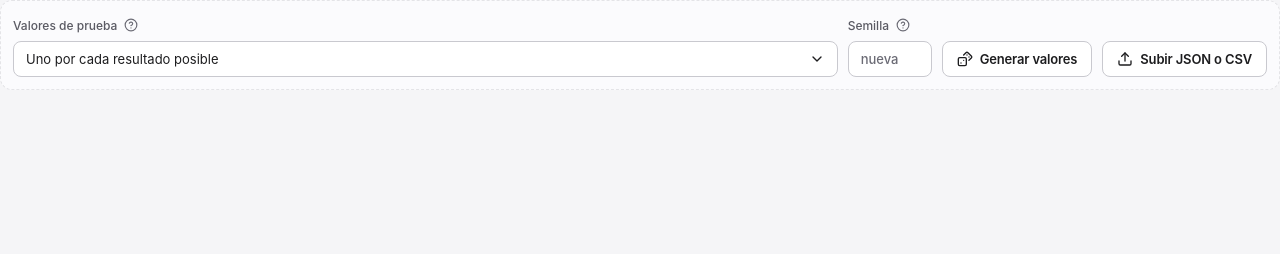
Test: SimulatorSampleBar › avisa de los desenlaces que la tanda NO cubre
Click the button "Generar valores" at (1017, 59), box [942,41,1092,77]
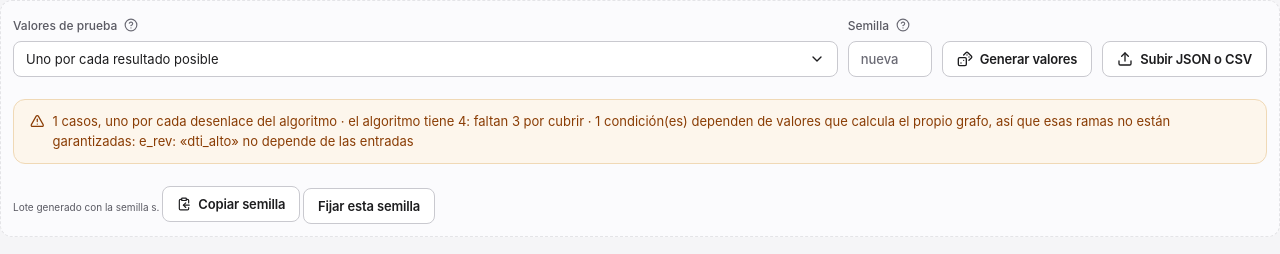
Now the text "no están garantizadas" is shown, box [52,113,1170,148]
